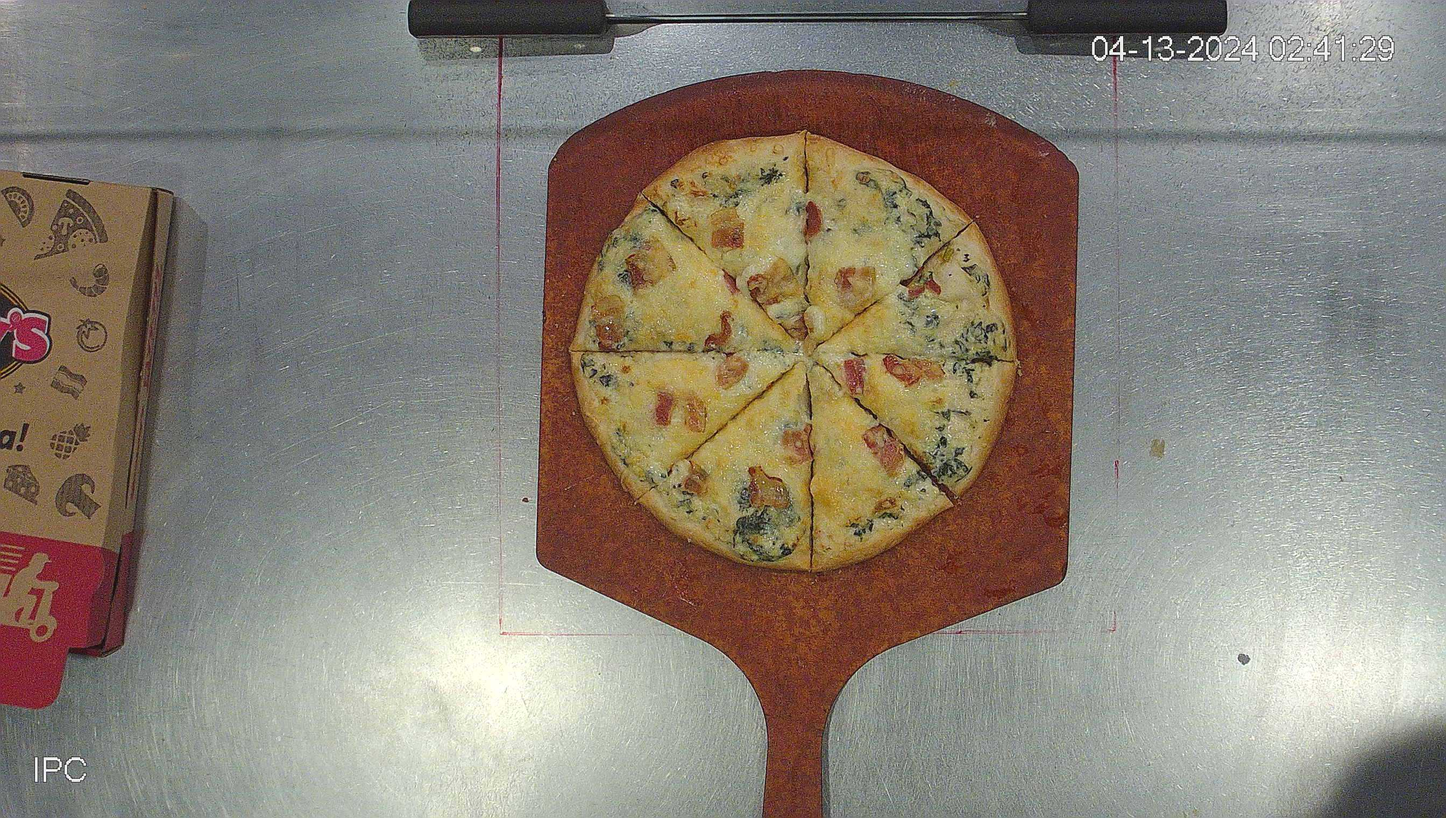pepporoni: (569, 131, 1023, 574)
